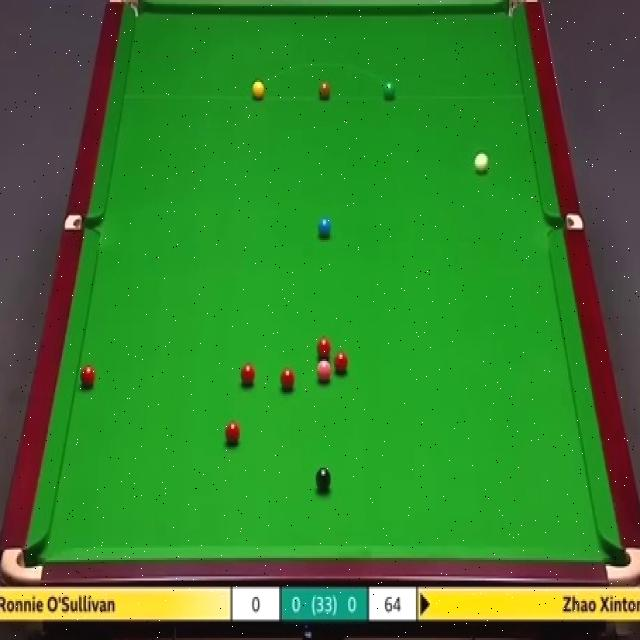black-ball: (315, 464, 332, 496)
blue-ball: (317, 218, 332, 236)
brown-ball: (317, 82, 333, 102)
green-ball: (384, 82, 396, 99)
pink-ball: (315, 362, 333, 384)
red-ball: (224, 422, 242, 447), (80, 364, 94, 388), (238, 366, 256, 384), (279, 370, 294, 390), (315, 338, 333, 354), (334, 352, 348, 372)
white-ball: (475, 152, 490, 175)
yellow-ball: (252, 80, 265, 101)
